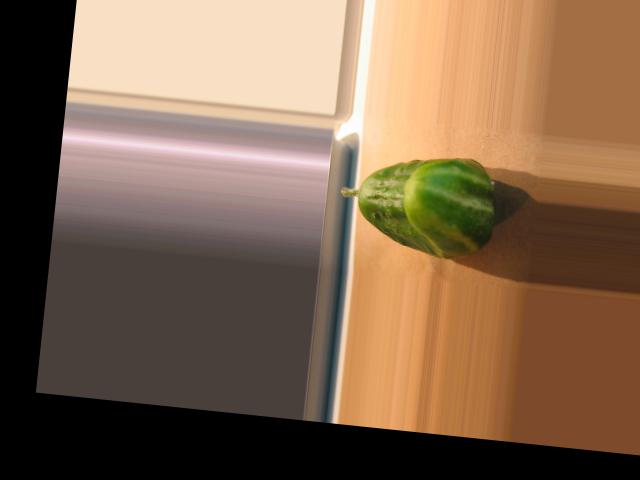cucumber: (334, 144, 500, 262)
